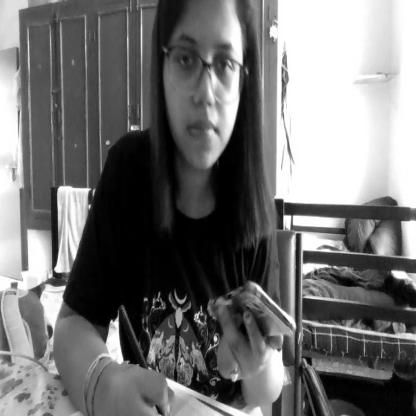Normal: (156, 0, 247, 181)
